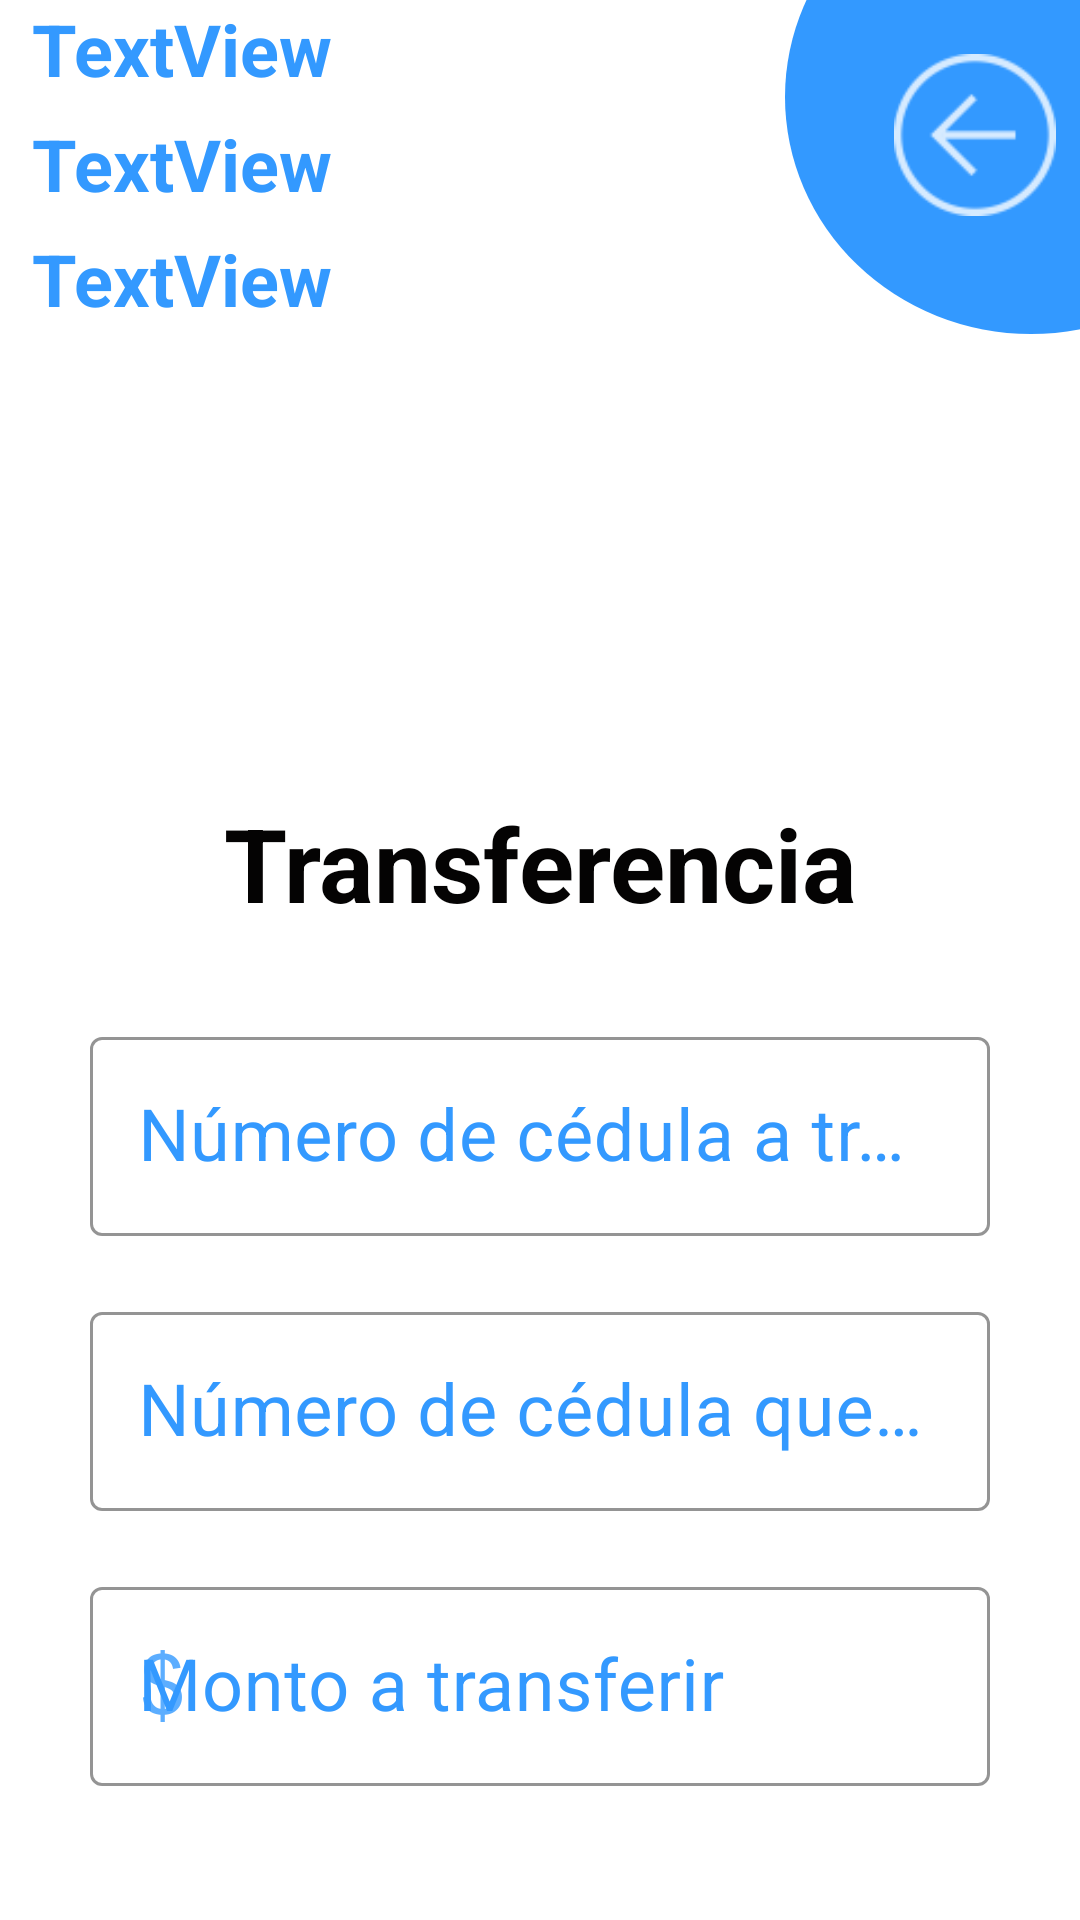

Named icons in this screenshot (1080w x 1920h) and their centers, [x,y]:
arrowback: [975,135]
